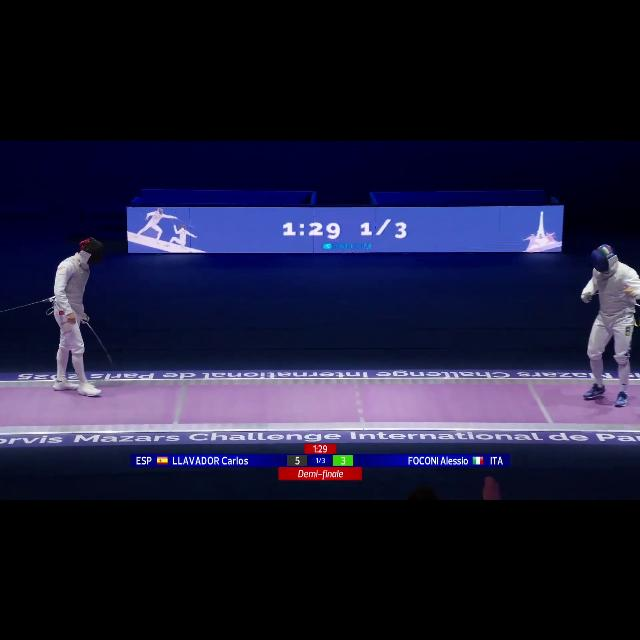blade: (81, 314, 123, 372), (581, 288, 637, 300)
